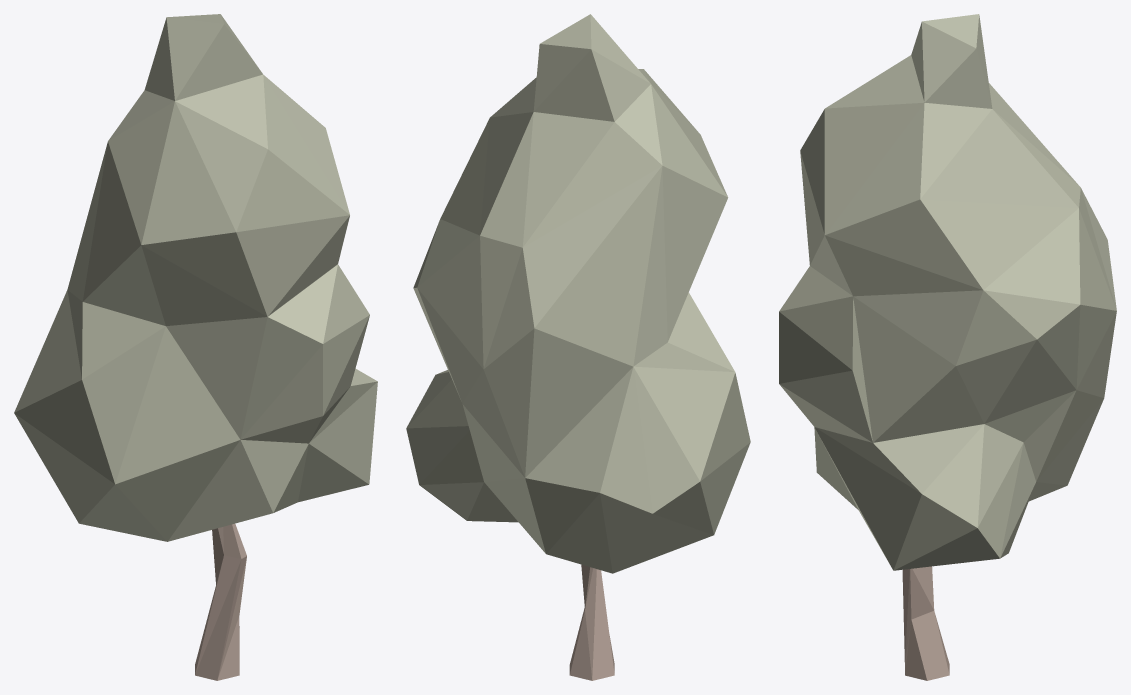
The model's file is SequoiadendronGiganteum.glb.
The picture shows the model from 3 angles, left to right: view 1: azimuth 30°, elevation 25°; view 2: azimuth 150°, elevation 25°; view 3: azimuth 270°, elevation 25°; orthographic projection.
Visible parts, largest first — view 1: Crown, Trunk; view 2: Crown, Trunk; view 3: Crown, Trunk.
Boxes of the visible parts, box(x1,y1,x2,y2) form: Crown: box(14, 14, 377, 541); Trunk: box(195, 523, 246, 680); Crown: box(406, 14, 750, 573); Trunk: box(569, 564, 614, 680); Crown: box(779, 14, 1116, 570); Trunk: box(902, 566, 949, 680).
Bounding box in the file's own units: 31.04 × 61.03 × 28.72.
